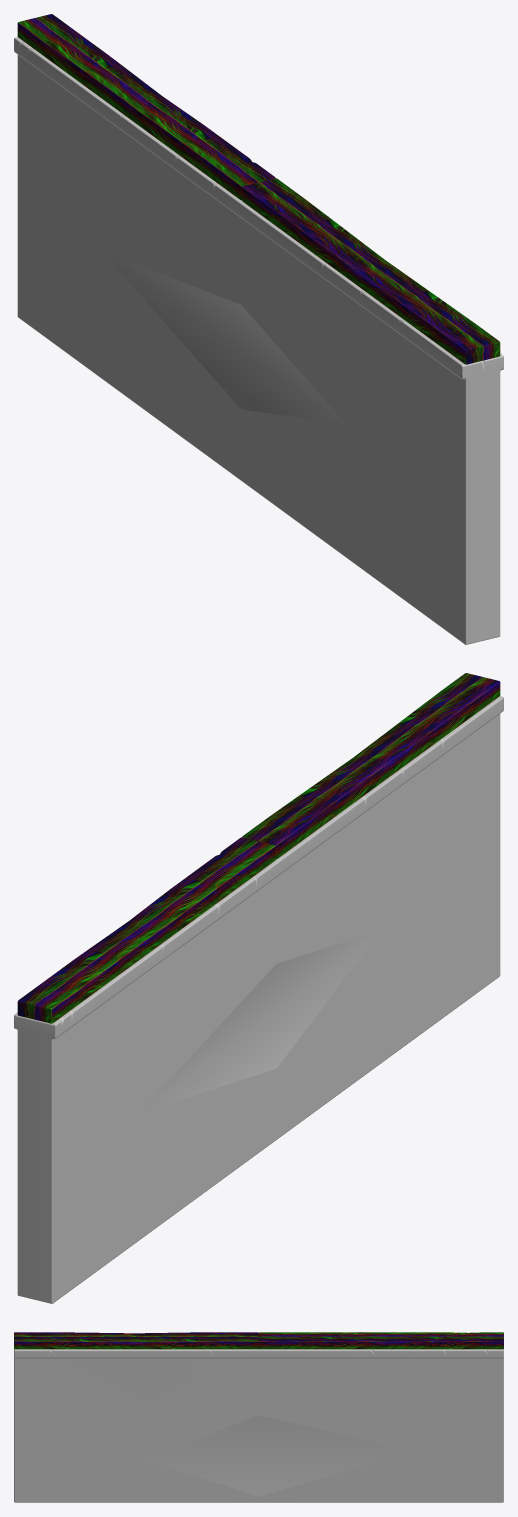
File: SM_WallMassive_Top.fbx
The picture shows the model from 3 angles, top to bottom: view 1: azimuth 30°, elevation 25°; view 2: azimuth 150°, elevation 25°; view 3: azimuth 270°, elevation 25°; orthographic projection. The views are drawn at different scales.
Visible parts, largest first — view 1: SM_WallMassive_Top_LOD0; view 2: SM_WallMassive_Top_LOD0; view 3: SM_WallMassive_Top_LOD0.
Boxes of the visible parts, box(x1,y1,x2,y2) form: SM_WallMassive_Top_LOD0: box(14, 14, 503, 644); SM_WallMassive_Top_LOD0: box(14, 673, 503, 1303); SM_WallMassive_Top_LOD0: box(14, 1332, 503, 1502).
Size of the model in its own units: 120 by 2200 by 800.
2 materials, 1 textured.
